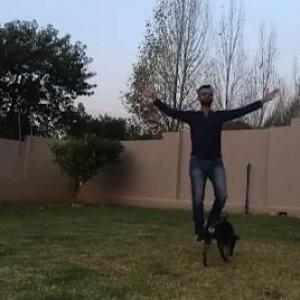takeoff: (135, 70, 271, 242)
